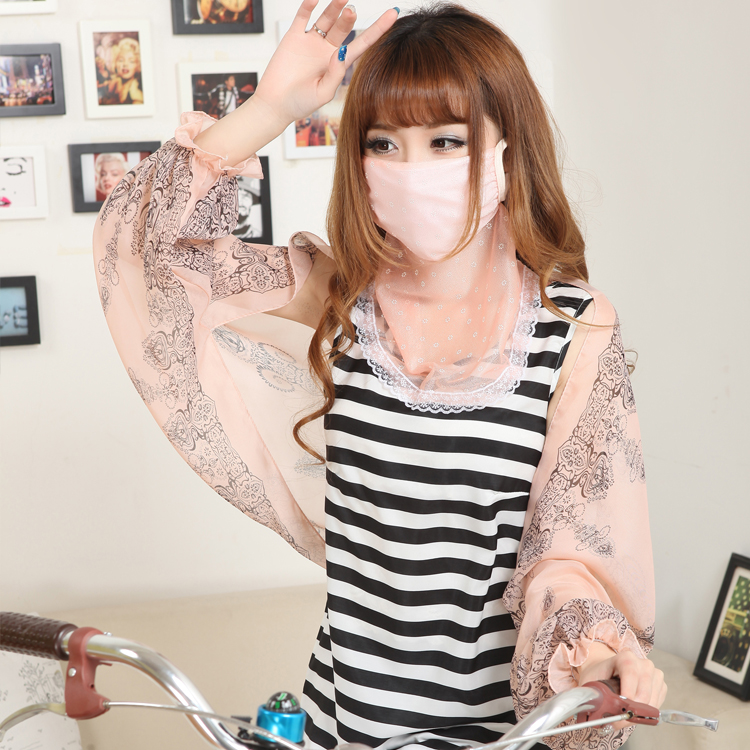face_mask: (364, 71, 496, 253)
